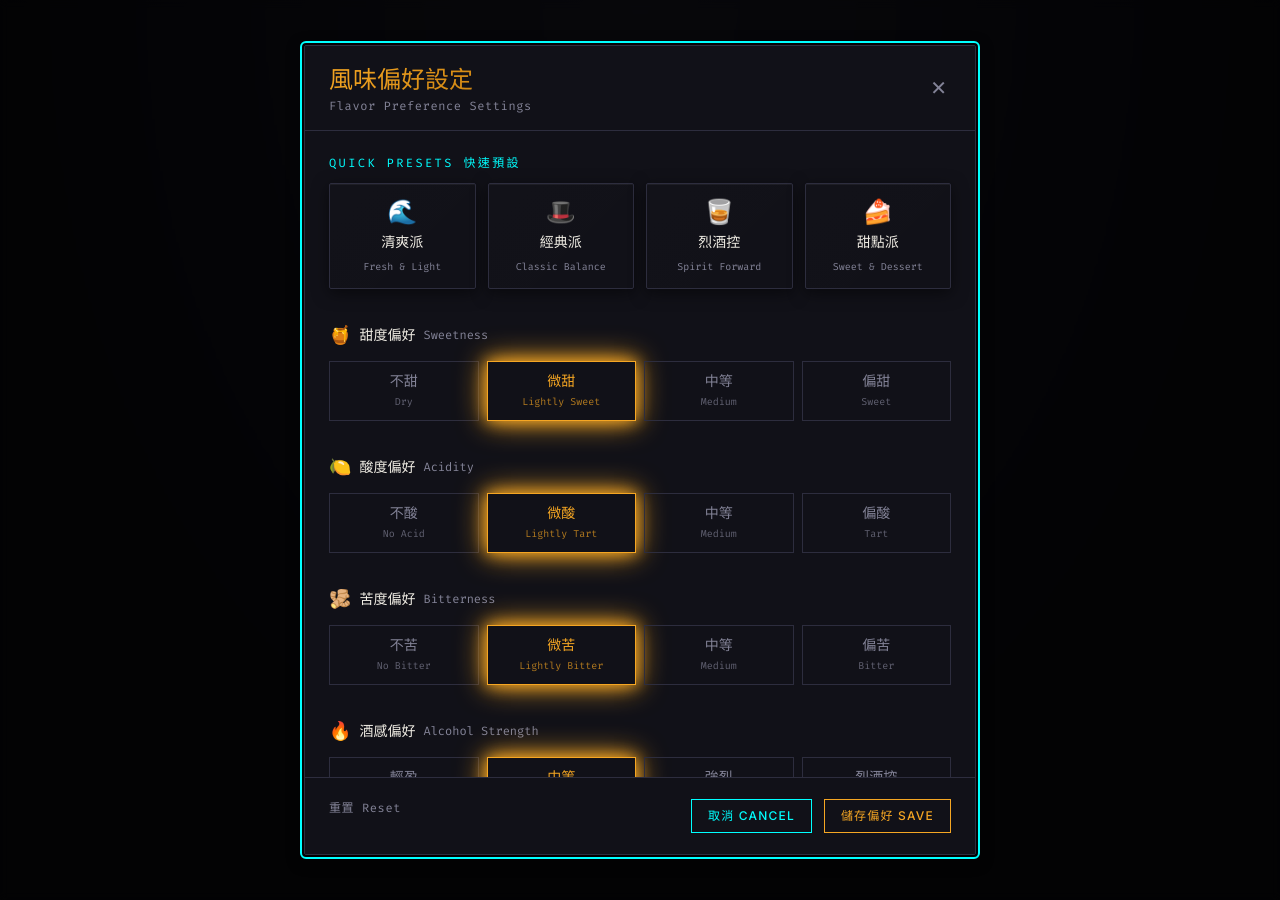
FlavorPreference › 重置會清掉儲存並回報，即使偏好本來就是預設值
Click the button "重置 Reset".
click(365, 808)  # box x1=329 y1=800 x2=401 y2=816
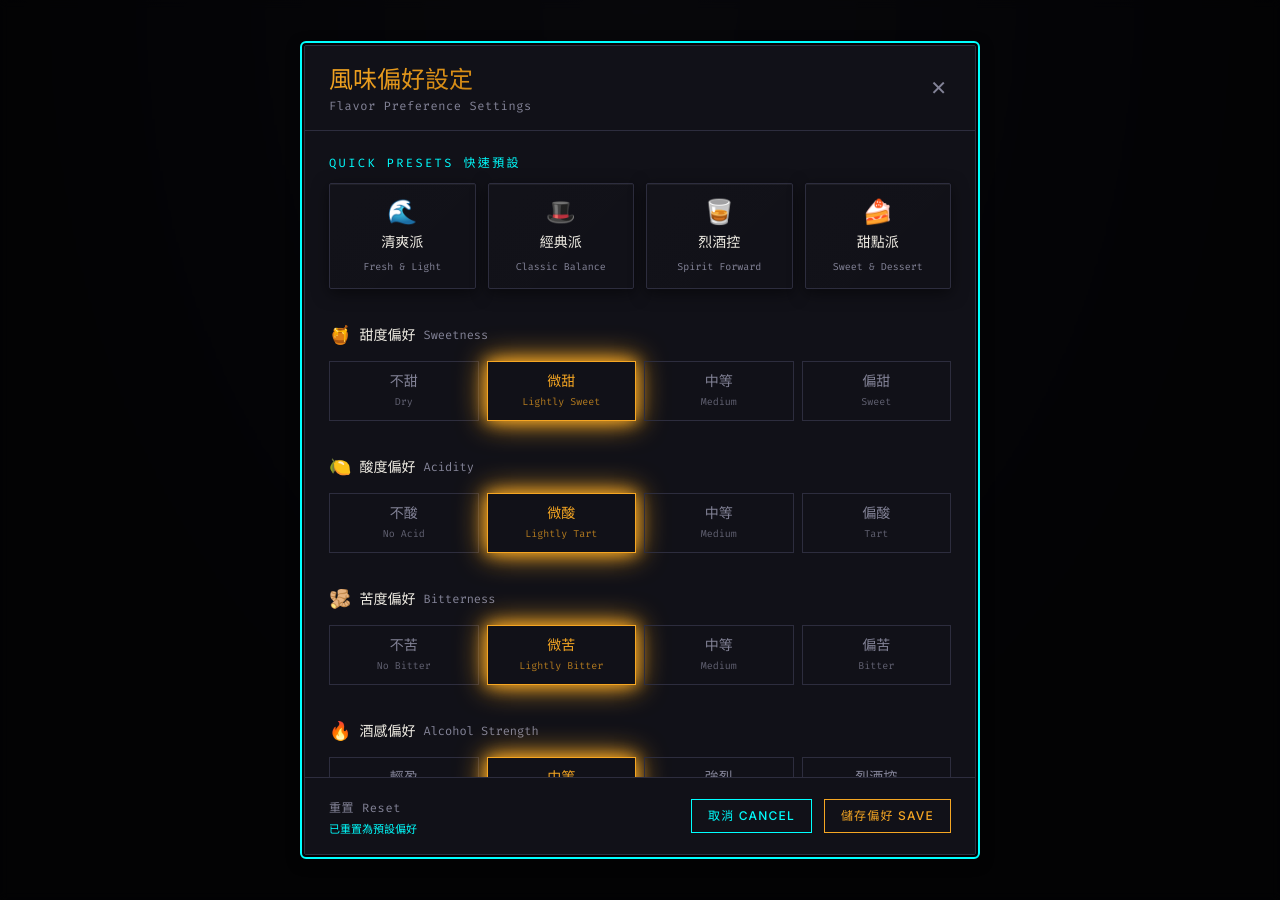
Now the message reads "已重置為預設偏好", box x1=329 y1=822 x2=417 y2=837
